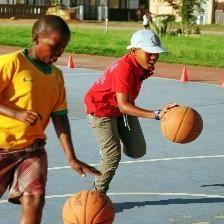Sports-Ball: (61, 189, 115, 224), (158, 108, 206, 147)
